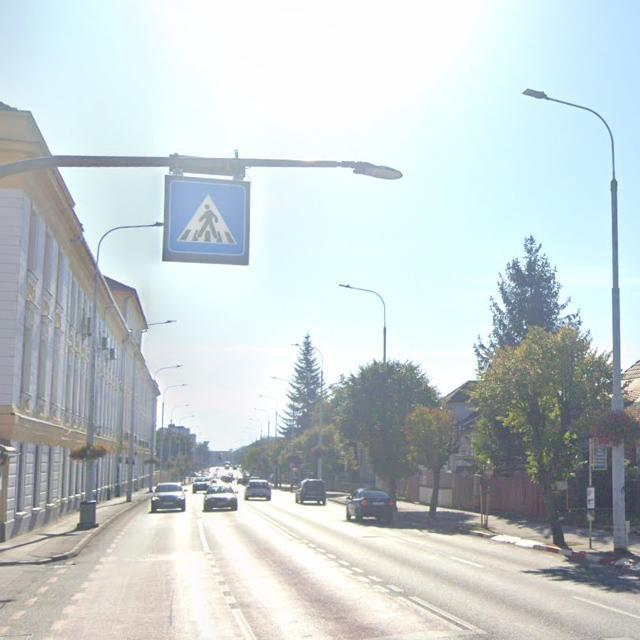info_crosswalk: (165, 175, 249, 266)
